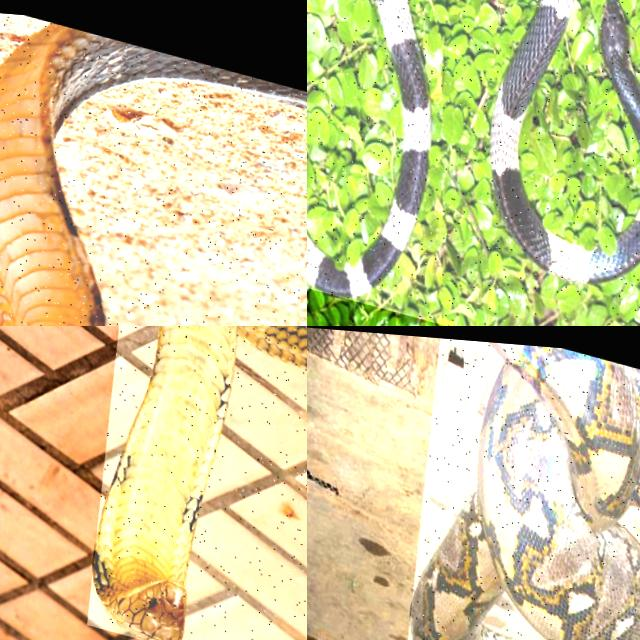Bungarus candidus: (490, 0, 639, 281)
Malayopython reticulatus: (410, 342, 639, 639)
Ophiophagus hannah: (0, 24, 306, 325), (93, 326, 306, 639)
snake: (0, 24, 306, 325), (410, 342, 639, 639), (93, 326, 306, 639), (490, 0, 639, 281)
